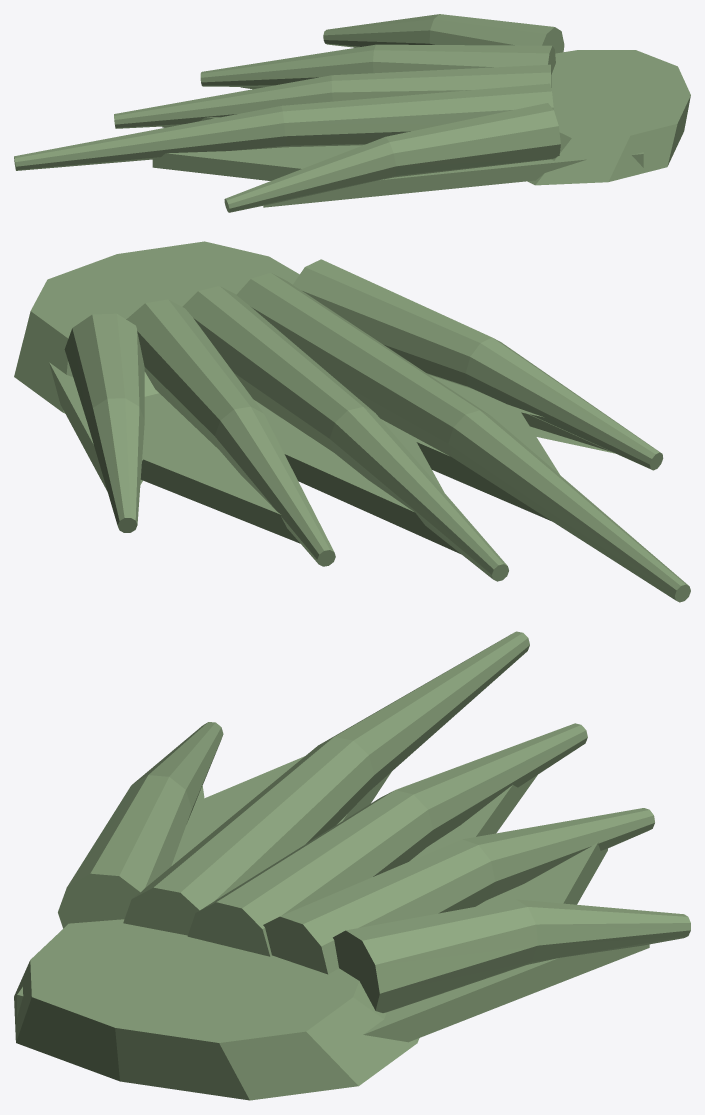
Rendered from frog_foot_hl_01.glb.
3 renders of one model, top to bottom at view 1: azimuth 30°, elevation 25°; view 2: azimuth 150°, elevation 25°; view 3: azimuth 270°, elevation 25°, orthographic. The views are drawn at different scales.
Visible parts, largest first — view 1: HindLToe3, HindLPalm, HindLToe4, HindLToe2, HindLWeb, HindLToe1, HindLToe0; view 2: HindLToe3, HindLWeb, HindLToe2, HindLToe4, HindLToe1, HindLPalm, HindLToe0; view 3: HindLPalm, HindLToe3, HindLToe2, HindLToe0, HindLToe1, HindLWeb, HindLToe4.
Part boxes in pixels (x1=…): HindLToe3: x1=14, y1=83, x2=553, y2=170; HindLPalm: x1=527, y1=50, x2=690, y2=185; HindLToe4: x1=224, y1=103, x2=560, y2=212; HindLToe2: x1=114, y1=64, x2=551, y2=128; HindLWeb: x1=152, y1=47, x2=643, y2=207; HindLToe1: x1=200, y1=44, x2=555, y2=86; HindLToe0: x1=323, y1=14, x2=564, y2=53; HindLToe3: x1=236, y1=273, x2=690, y2=602; HindLWeb: x1=49, y1=362, x2=614, y2=554; HindLToe2: x1=182, y1=286, x2=508, y2=581; HindLToe4: x1=293, y1=259, x2=663, y2=470; HindLToe1: x1=126, y1=299, x2=335, y2=566; HindLPalm: x1=14, y1=241, x2=299, y2=413; HindLToe0: x1=64, y1=313, x2=144, y2=532; HindLPalm: x1=14, y1=919, x2=419, y2=1100; HindLToe3: x1=123, y1=631, x2=529, y2=935; HindLToe2: x1=187, y1=723, x2=587, y2=956; HindLToe0: x1=333, y1=899, x2=690, y2=1012; HindLToe1: x1=263, y1=808, x2=654, y2=974; HindLWeb: x1=17, y1=756, x2=649, y2=1042; HindLToe4: x1=58, y1=722, x2=223, y2=928.
Size of the model in its own units: 0.2646 by 0.0274 by 0.1699.
